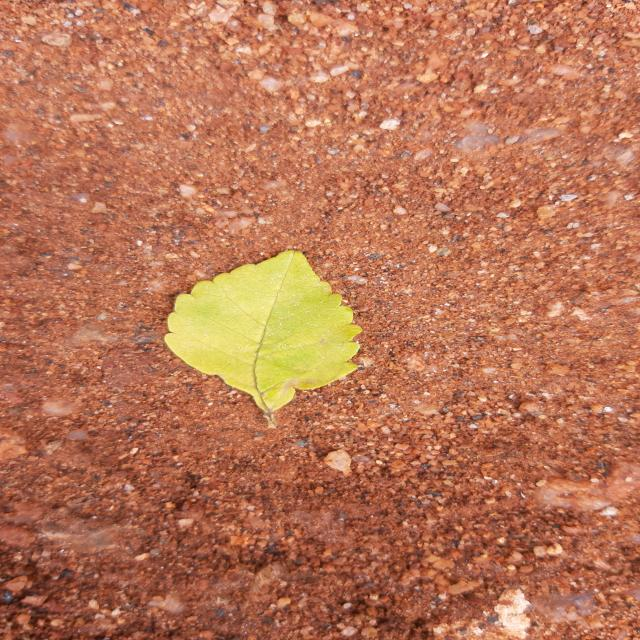tecoma: (164, 251, 362, 428)
